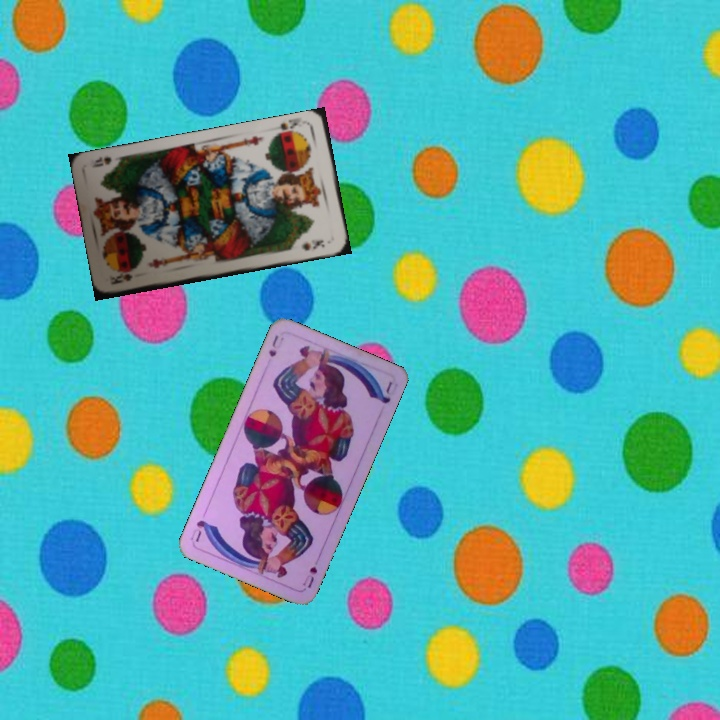SK: (271, 116, 311, 139), (106, 269, 135, 287)
SU: (298, 561, 320, 591), (265, 331, 287, 360)
